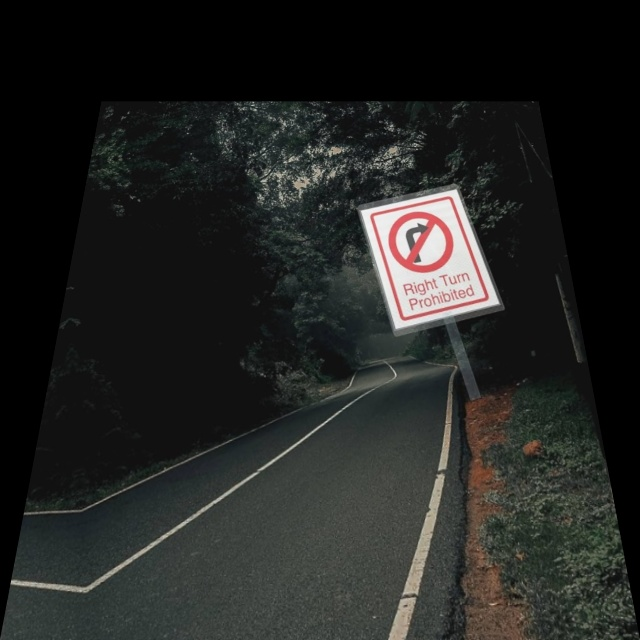Right_Turn_Prohibited: (372, 198, 475, 285)
